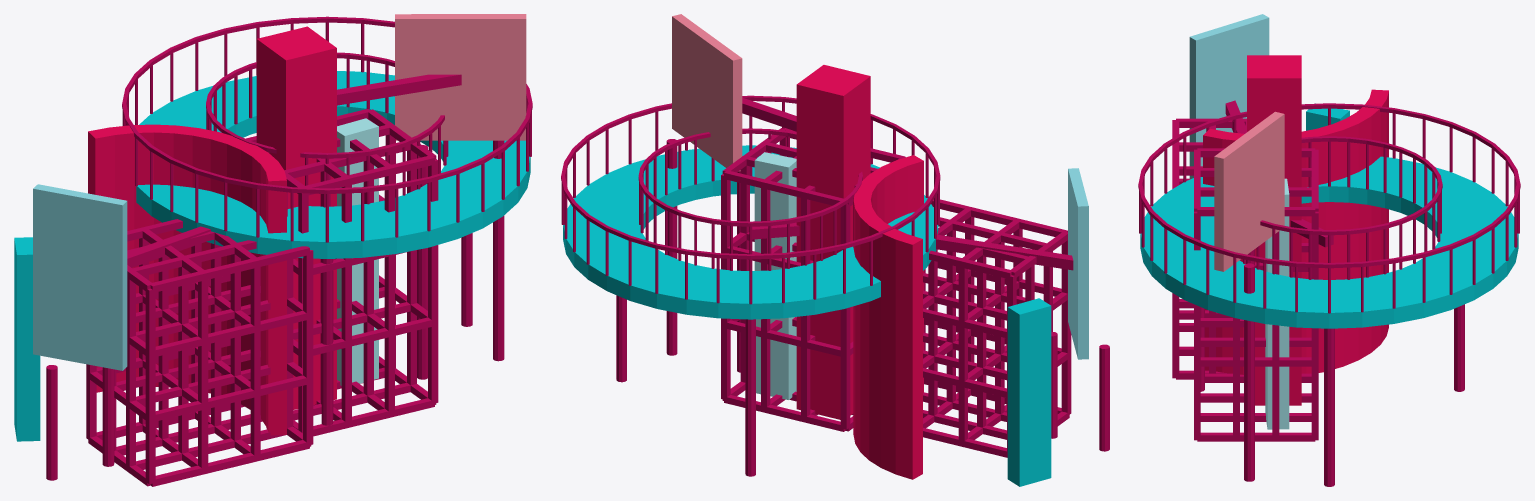
The model's file is folie_tag_137.glb.
3 views of the same model, side by side, from view 1: azimuth 30°, elevation 25°; view 2: azimuth 150°, elevation 25°; view 3: azimuth 270°, elevation 25° (orthographic). The views are drawn at different scales.
Parts seen in each view (by area): view 1: folie_tag_137_03_cage, folie_tag_137_line, folie_tag_137_00_ring, folie_tag_137_01_cage, folie_tag_137_02_curve, folie_tag_137_06_panel, folie_tag_137_05_panel, folie_tag_137_core, folie_tag_137_07_fin, folie_tag_137_04_fin; view 2: folie_tag_137_00_ring, folie_tag_137_line, folie_tag_137_03_cage, folie_tag_137_02_curve, folie_tag_137_core, folie_tag_137_01_cage, folie_tag_137_05_panel, folie_tag_137_07_fin, folie_tag_137_04_fin, folie_tag_137_06_panel; view 3: folie_tag_137_00_ring, folie_tag_137_line, folie_tag_137_02_curve, folie_tag_137_01_cage, folie_tag_137_05_panel, folie_tag_137_core, folie_tag_137_06_panel, folie_tag_137_03_cage, folie_tag_137_04_fin, folie_tag_137_07_fin.
Boxes of the visible parts, <box> form: folie_tag_137_03_cage: <box>86,219,313,486</box>; folie_tag_137_line: <box>46,16,532,480</box>; folie_tag_137_00_ring: <box>136,71,530,258</box>; folie_tag_137_01_cage: <box>246,109,438,436</box>; folie_tag_137_02_curve: <box>88,124,286,435</box>; folie_tag_137_06_panel: <box>33,184,127,370</box>; folie_tag_137_05_panel: <box>395,14,526,140</box>; folie_tag_137_core: <box>256,26,336,409</box>; folie_tag_137_07_fin: <box>14,237,40,441</box>; folie_tag_137_04_fin: <box>337,118,378,385</box>; folie_tag_137_00_ring: <box>563,145,938,319</box>; folie_tag_137_line: <box>561,95,1109,476</box>; folie_tag_137_03_cage: <box>923,198,1071,457</box>; folie_tag_137_02_curve: <box>853,155,923,479</box>; folie_tag_137_core: <box>796,65,870,419</box>; folie_tag_137_01_cage: <box>721,128,905,431</box>; folie_tag_137_05_panel: <box>672,14,742,171</box>; folie_tag_137_07_fin: <box>1007,298,1051,486</box>; folie_tag_137_04_fin: <box>754,152,796,399</box>; folie_tag_137_06_panel: <box>1068,168,1088,359</box>; folie_tag_137_00_ring: <box>1140,156,1518,328</box>; folie_tag_137_line: <box>1138,100,1520,486</box>; folie_tag_137_02_curve: <box>1203,89,1388,374</box>; folie_tag_137_01_cage: <box>1194,148,1318,441</box>; folie_tag_137_05_panel: <box>1214,111,1284,271</box>; folie_tag_137_core: <box>1247,55,1301,405</box>; folie_tag_137_06_panel: <box>1189,14,1269,178</box>; folie_tag_137_03_cage: <box>1172,118,1246,379</box>; folie_tag_137_04_fin: <box>1265,178,1289,429</box>; folie_tag_137_07_fin: <box>1306,103,1349,130</box>.
Bounding box in the file's own units: 11.05 × 7.33 × 7.68.
